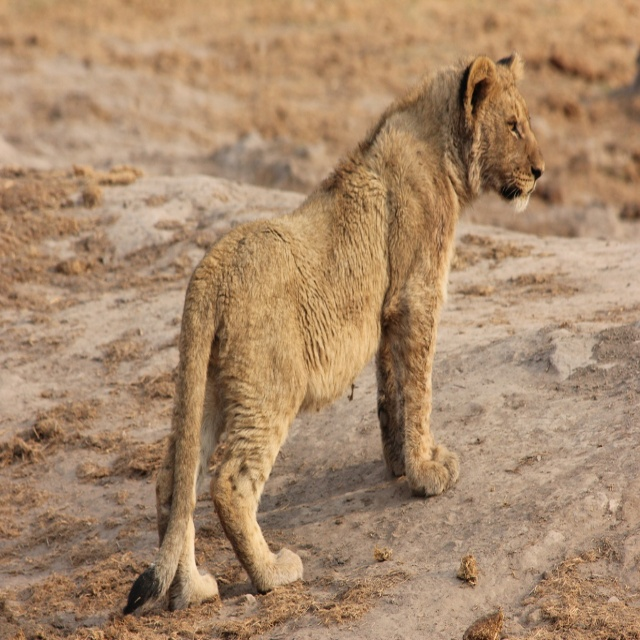Lion: (121, 49, 545, 619)
